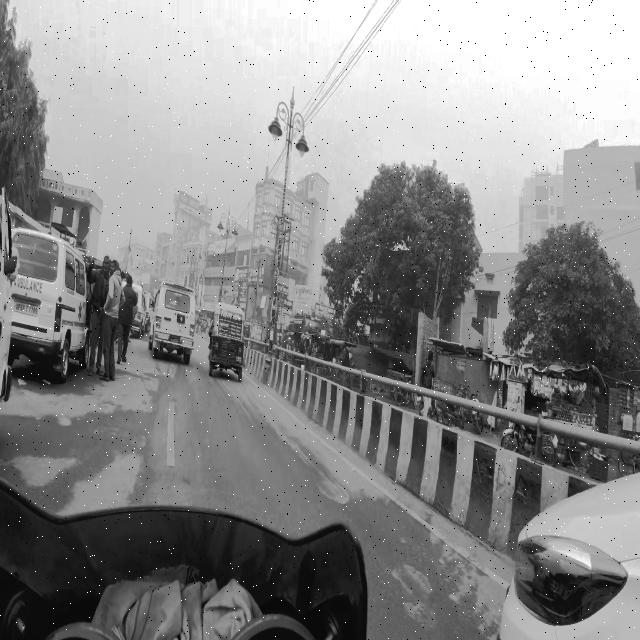Auto-Rickshaw: (208, 300, 248, 381)
Car: (148, 267, 198, 377)
LCV: (10, 212, 92, 386)
